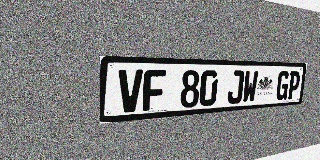0: (199, 70, 218, 107)
8: (180, 70, 201, 108)
F: (142, 70, 166, 111)
G: (275, 71, 290, 100)
J: (227, 70, 245, 104)
P: (287, 71, 301, 99)
V: (118, 69, 143, 113)
W: (242, 70, 259, 103)
